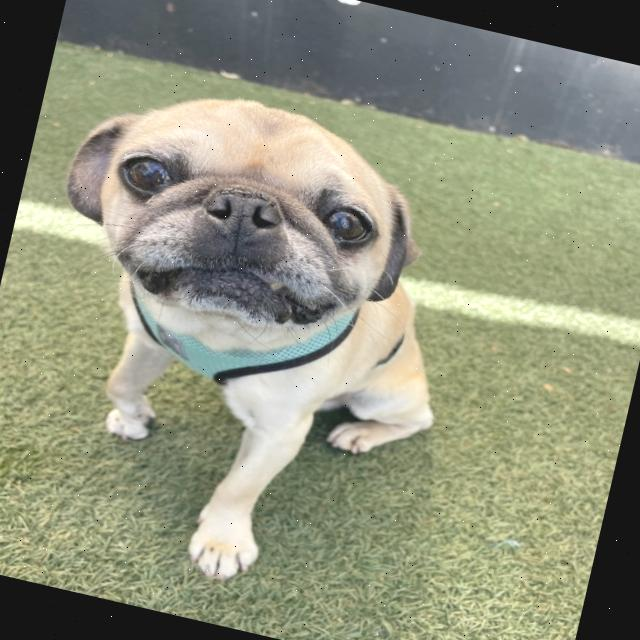pug_dog: (29, 59, 453, 381)
